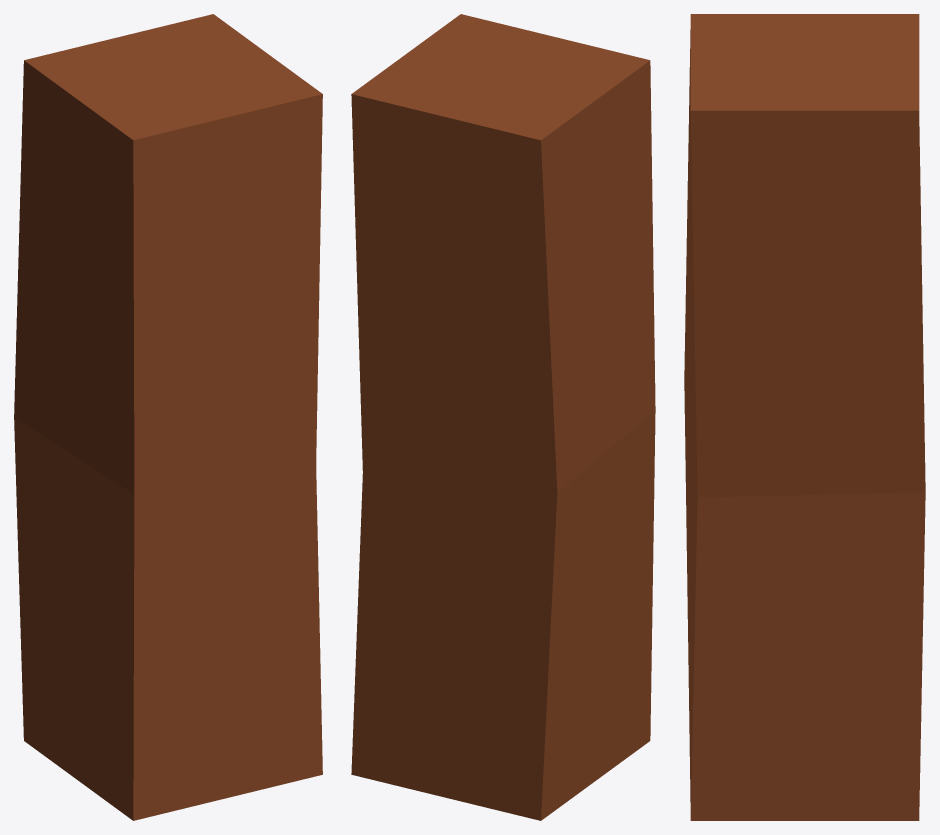
The model's file is Tree_trunk_prototype.fbx.
3 renders of one model, left to right at view 1: azimuth 30°, elevation 25°; view 2: azimuth 150°, elevation 25°; view 3: azimuth 270°, elevation 25°, orthographic. The views are drawn at different scales.
Parts seen in each view (by area): view 1: Cube; view 2: Cube; view 3: Cube.
Part boxes in pixels (x1,y1,x2,y2): Cube: [14, 14, 322, 820]; Cube: [351, 14, 655, 820]; Cube: [684, 14, 925, 820].
Bounding box in the file's own units: 38.31 × 37.85 × 123.
